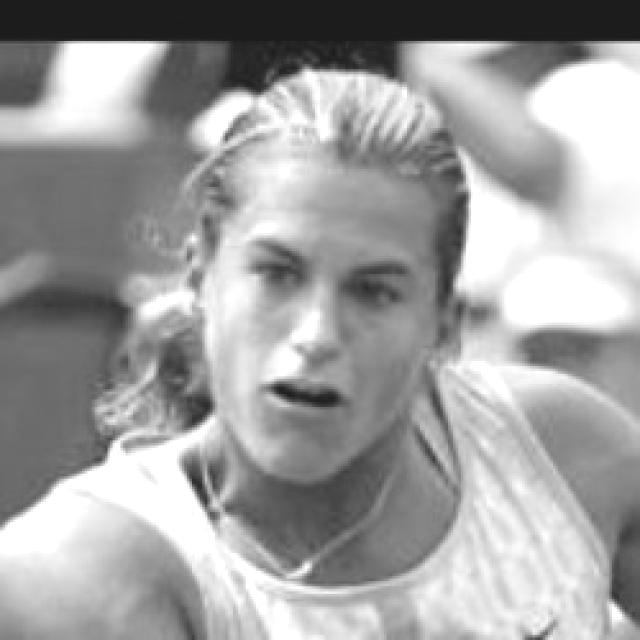real: (192, 83, 472, 498), (218, 231, 419, 322)
